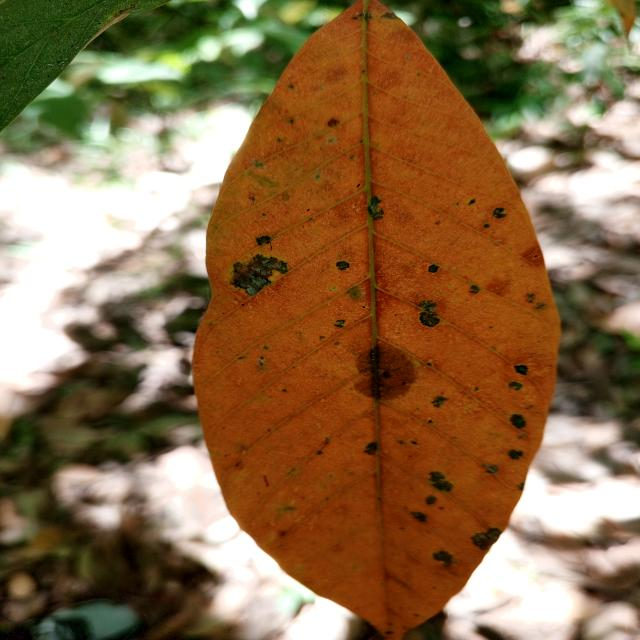Colletotrichum: (514, 364, 528, 376), (337, 261, 350, 270), (428, 264, 440, 273)
